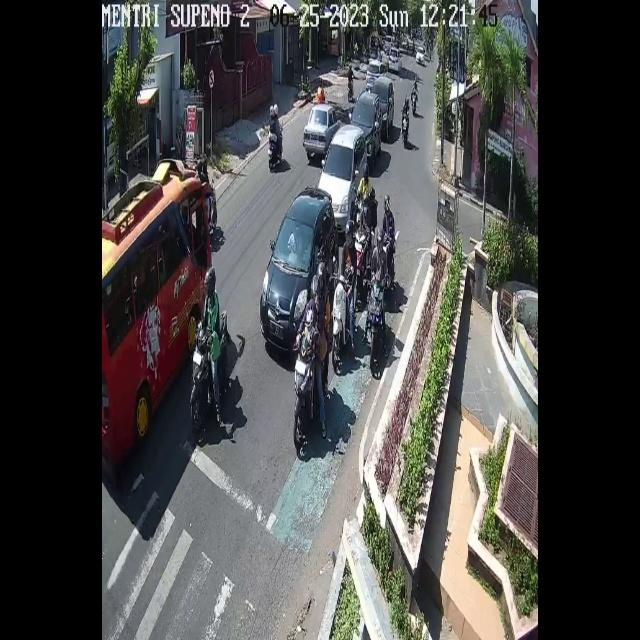bus: (190, 310, 228, 432), (293, 336, 315, 447), (332, 273, 351, 368), (366, 280, 384, 372), (354, 231, 367, 294), (269, 123, 283, 171), (384, 231, 394, 289), (402, 112, 409, 148), (355, 200, 364, 226), (348, 75, 354, 101), (412, 89, 416, 115)
car: (102, 159, 213, 472)
motorcycle: (260, 185, 339, 353), (318, 124, 368, 233), (303, 103, 342, 162), (350, 90, 380, 159), (371, 76, 395, 139), (366, 61, 388, 88), (389, 47, 403, 72)
